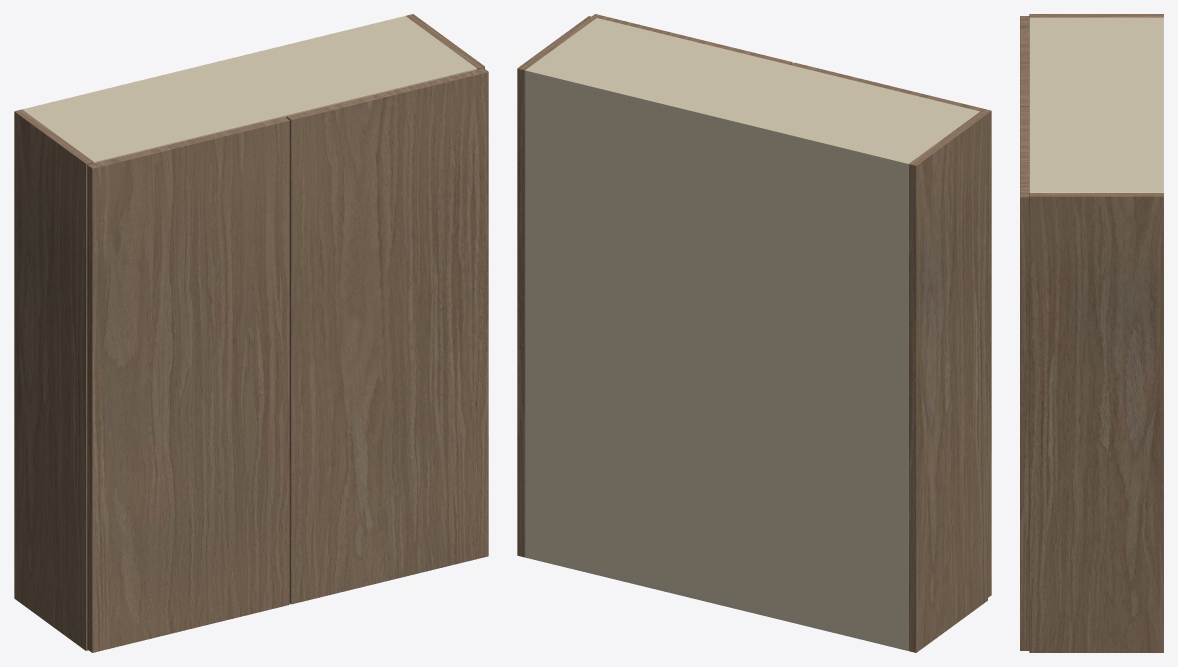
The model's file is oppein-ply-mnw-w3642.glb.
3 views of the same model, side by side, from view 1: azimuth 30°, elevation 25°; view 2: azimuth 150°, elevation 25°; view 3: azimuth 270°, elevation 25° (orthographic). The views are drawn at different scales.
Visible parts, largest first — view 1: Door, Door.001, Cabinet side, Cabinet top; view 2: Cabinet back, Cabinet side, Cabinet top, Cabinet side.001, Door, Cabinet bottom, Door.001; view 3: Cabinet side.001, Cabinet top, Door.001, Door, Cabinet side.
Part boxes in pixels (x1,y1,x2,y2): Door: [87, 116, 289, 652]; Door.001: [286, 68, 488, 604]; Cabinet side: [14, 109, 93, 650]; Cabinet top: [22, 16, 476, 163]; Cabinet back: [525, 70, 908, 650]; Cabinet side: [908, 111, 987, 652]; Cabinet top: [525, 18, 979, 171]; Cabinet side.001: [517, 16, 596, 557]; Door: [791, 62, 991, 597]; Cabinet bottom: [525, 550, 908, 650]; Door.001: [592, 14, 792, 64]; Cabinet side.001: [1029, 193, 1163, 652]; Cabinet top: [1029, 17, 1163, 192]; Door.001: [1020, 107, 1029, 650]; Door: [1020, 16, 1029, 106]; Cabinet side: [1029, 14, 1163, 17].
Size of the model in its own units: 0.9144 by 1.07 by 0.3048.
2 materials, 1 textured.
